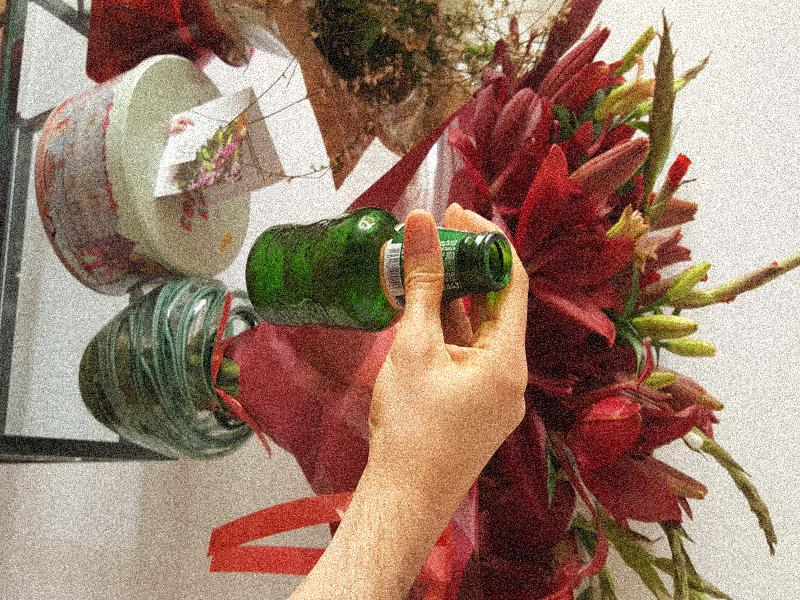Beer: (245, 207, 509, 327)
